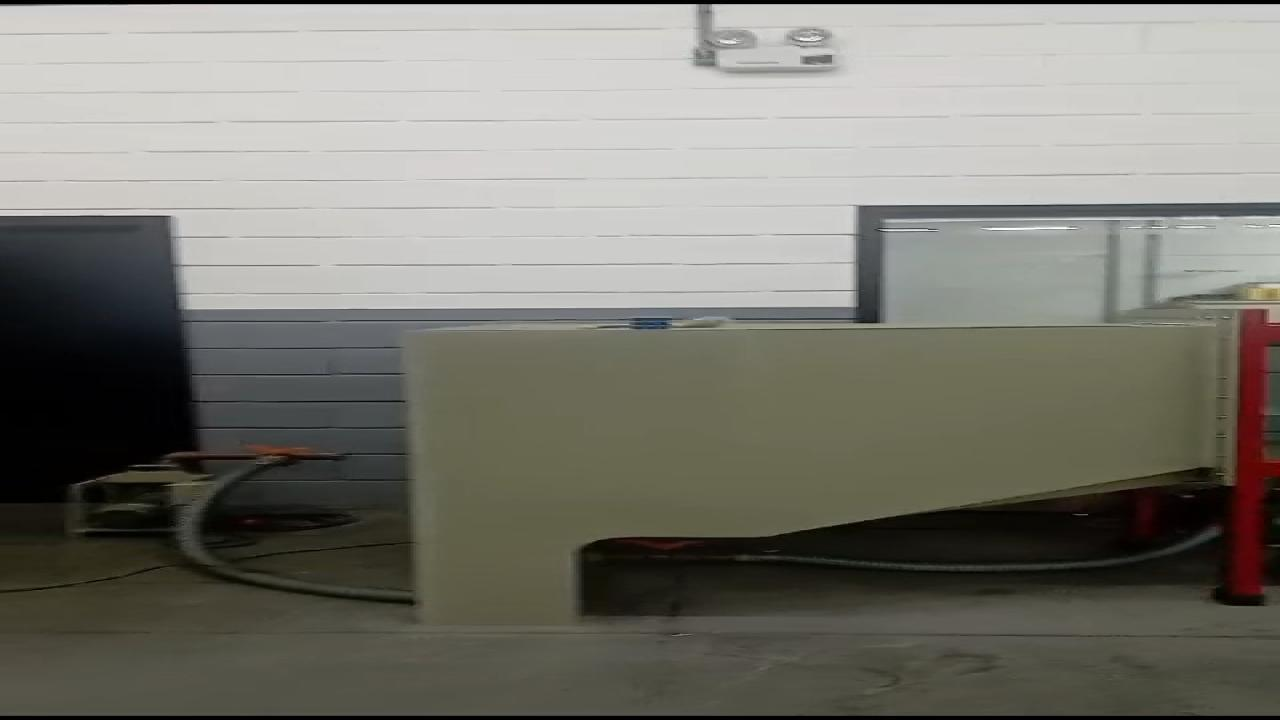Cube: (630, 317, 674, 329)
